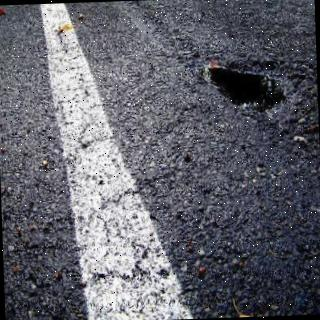pothole: (210, 63, 286, 112)
